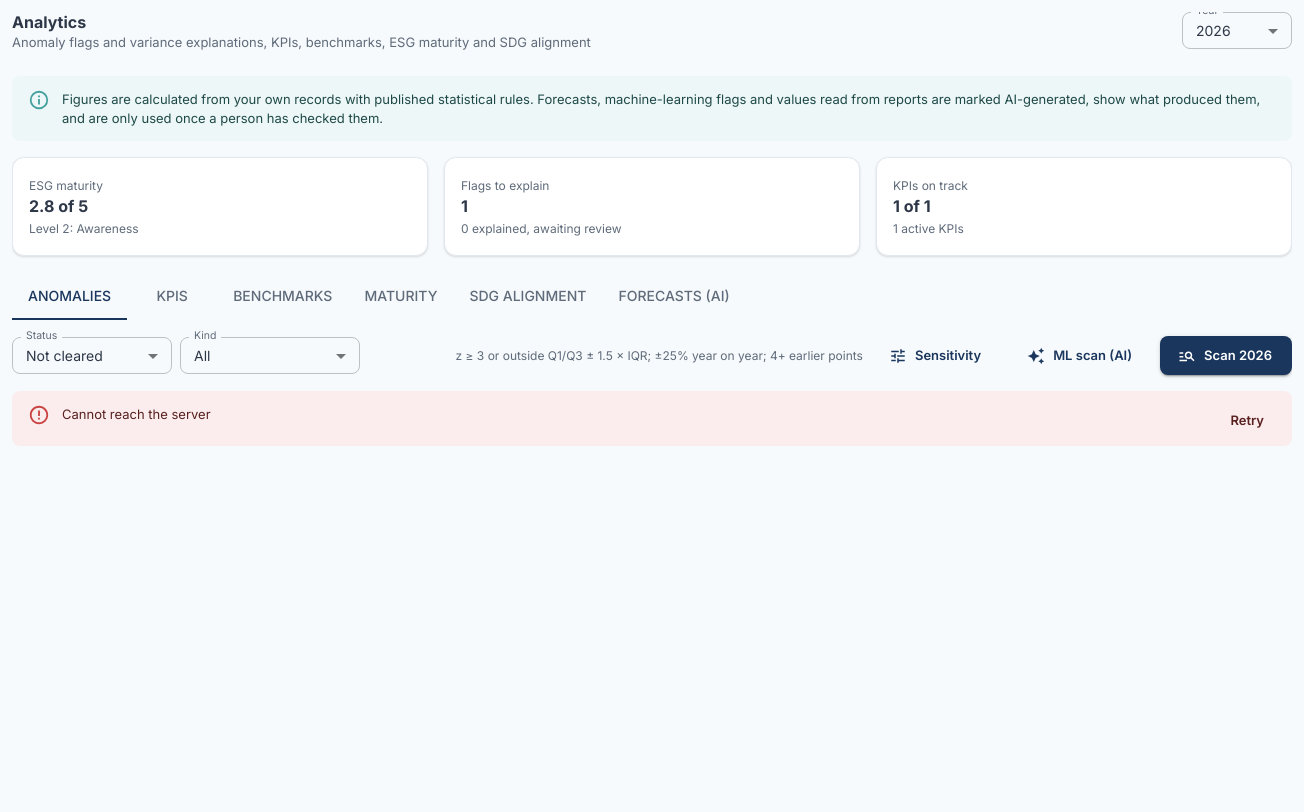
Test: Analytics page › places each site in a quartile band of a named dataset
What coordinates should you click on to do the following:
click the tab "Benchmarks"
I would click on:
 (283, 296)
Its box is [217, 272, 348, 320].
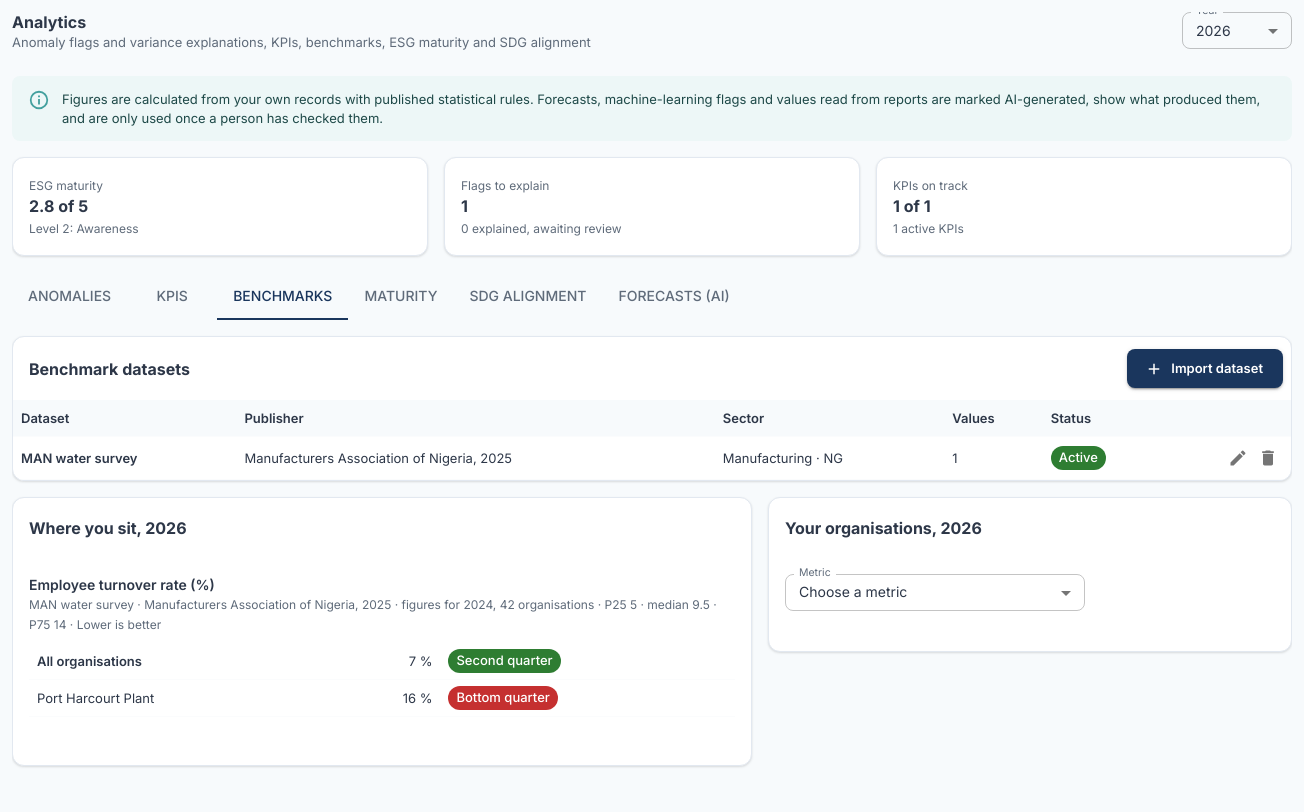
Now the element named "Benchmark Employee turnover rate — MAN water survey" shows "Manufacturers Association of Nigeria, 2025", box [29, 574, 735, 717]
Now the element named "Benchmark Employee turnover rate — MAN water survey" shows "figures for 2024, 42 organisations", box [29, 574, 735, 717]
Now the text "Second quarter" is shown, box [448, 651, 561, 670]
